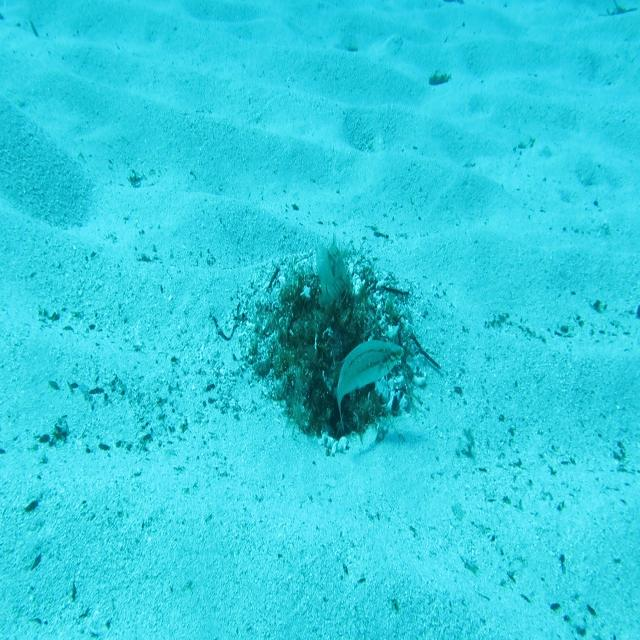NIP_CORE: (312, 230, 352, 315)
core_nest: (306, 292, 356, 348)
female: (333, 338, 406, 432)
nest: (226, 250, 431, 484)
vegetation: (427, 72, 452, 88)
